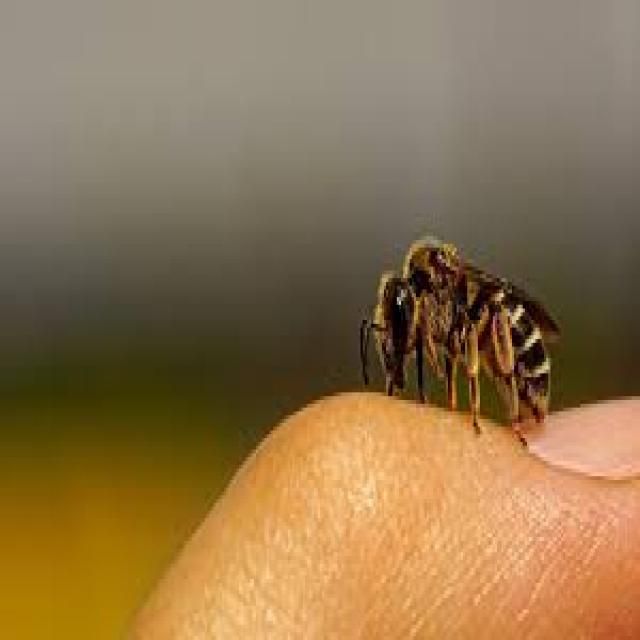Bees: (360, 240, 561, 452)
